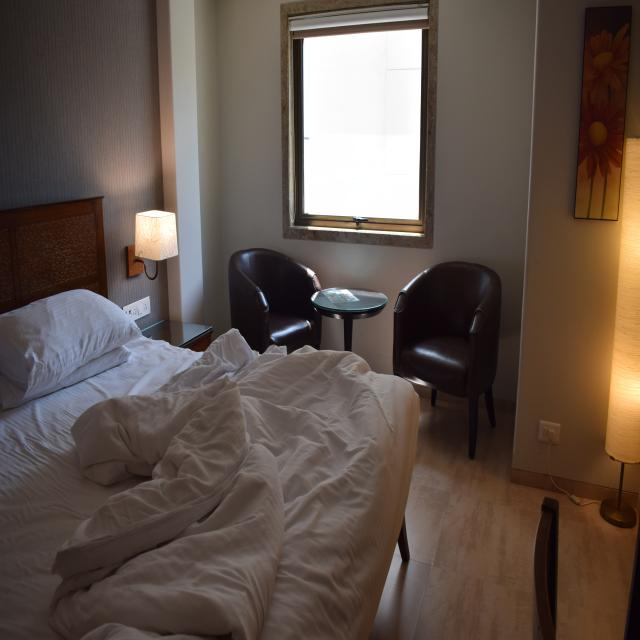mess: (0, 325, 399, 640)
